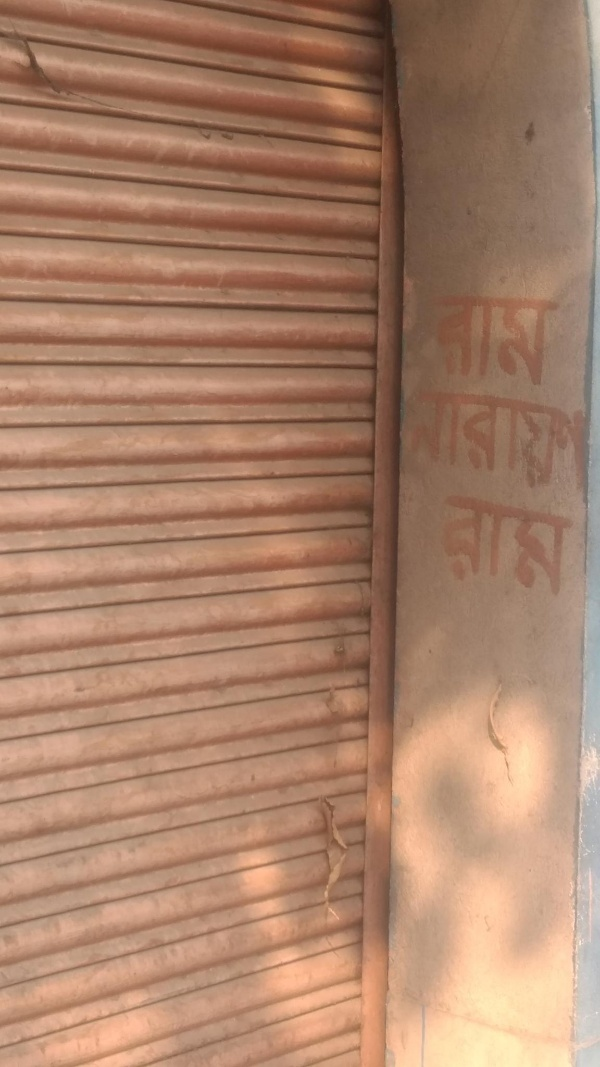text: (417, 384, 432, 496), (433, 384, 448, 496), (449, 384, 464, 496), (465, 384, 480, 496), (481, 384, 496, 496), (497, 384, 512, 496), (513, 384, 528, 496), (529, 384, 544, 496), (545, 384, 560, 496), (561, 384, 576, 496), (449, 493, 464, 600), (465, 493, 480, 600), (481, 493, 496, 600), (497, 493, 512, 600), (513, 493, 528, 600), (529, 493, 544, 600), (545, 493, 560, 600), (545, 294, 561, 387), (433, 294, 448, 387), (449, 294, 464, 387), (465, 294, 480, 387), (481, 294, 496, 387), (497, 294, 512, 387), (513, 294, 528, 387), (529, 294, 544, 387), (561, 493, 574, 600), (577, 384, 587, 496), (408, 384, 416, 496), (444, 493, 448, 600), (431, 294, 432, 387)
